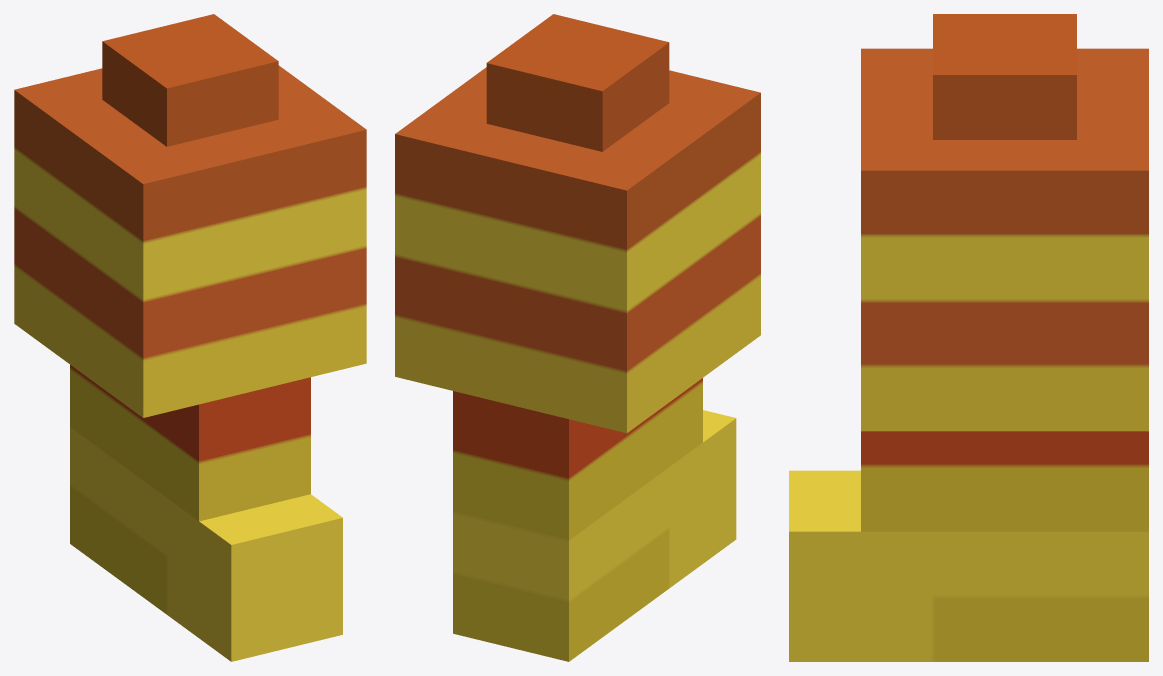
Rendered from Knee035.fbx.
3 renders of one model, left to right at view 1: azimuth 30°, elevation 25°; view 2: azimuth 150°, elevation 25°; view 3: azimuth 270°, elevation 25°, orthographic. The views are drawn at different scales.
Parts seen in each view (by area): view 1: Knee035; view 2: Knee035; view 3: Knee035.
Part boxes in pixels (x1=…): Knee035: x1=14, y1=14, x2=366, y2=661; Knee035: x1=395, y1=14, x2=760, y2=661; Knee035: x1=789, y1=14, x2=1148, y2=661.
Size of the model in its own units: 4 by 9 by 5.
